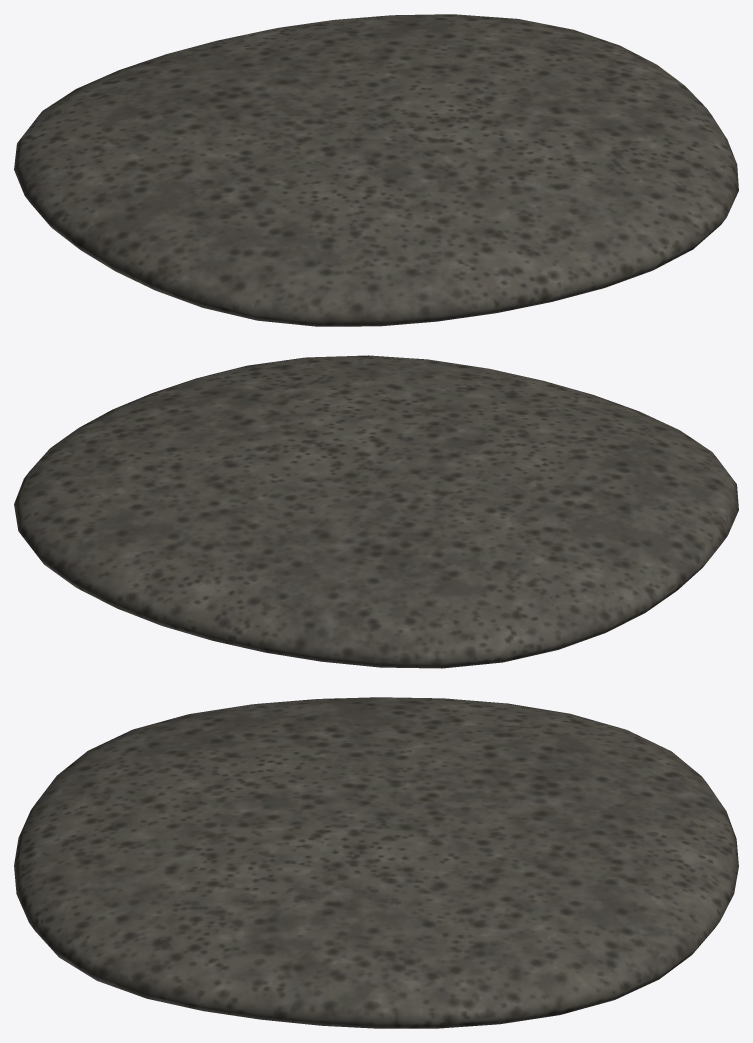
Rendered from heavy_basalt_04.glb.
The picture shows the model from 3 angles, top to bottom: view 1: azimuth 30°, elevation 25°; view 2: azimuth 150°, elevation 25°; view 3: azimuth 270°, elevation 25°; orthographic projection. The views are drawn at different scales.
Parts seen in each view (by area): view 1: heavy_basalt_04; view 2: heavy_basalt_04; view 3: heavy_basalt_04.
Part boxes in pixels (x1,y1,x2,y2): heavy_basalt_04: (14,14,738,326); heavy_basalt_04: (14,355,738,668); heavy_basalt_04: (14,697,738,1028).
Bounding box in the file's own units: 0.0881 × 0.0116 × 0.0844.
Materials: 1 (1 with a texture image).
